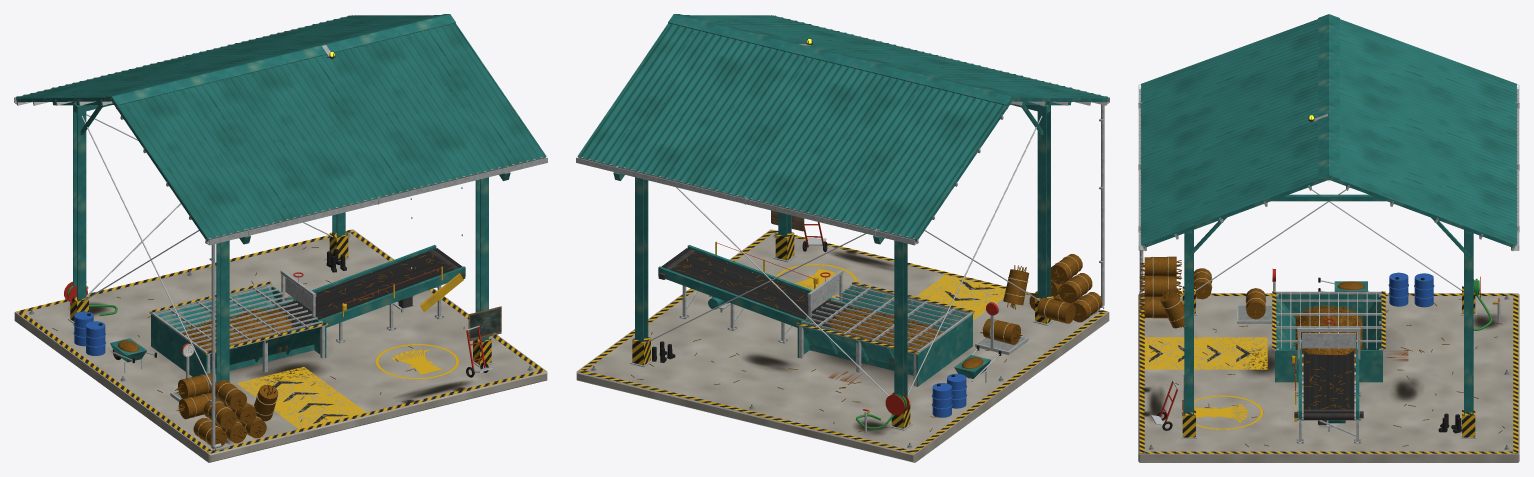
Rendered from CollectionPoint.glb.
The picture shows the model from 3 angles, left to right: view 1: azimuth 30°, elevation 25°; view 2: azimuth 150°, elevation 25°; view 3: azimuth 270°, elevation 25°; orthographic projection. The views are drawn at different scales.
Visible parts, largest first — view 1: CP_Roof_RoofTeal, CP_Pad_Concrete, CP_Frame_Teal, CP_Roof_Teal, CP_Hopper_Teal, CP_Hopper_Galv, CP_Props_WetStraw, CP_Belt_Rubber, CP_Pad_Walkway, CP_Pad_Hazard, CP_Roof_Galv, CP_Belt_Teal (+11 smaller); view 2: CP_Roof_RoofTeal, CP_Pad_Concrete, CP_Frame_Teal, CP_Hopper_Teal, CP_Roof_Teal, CP_Hopper_Galv, CP_Props_WetStraw, CP_Belt_Rubber, CP_Pad_Hazard, CP_Roof_Galv, CP_Pad_Wet, CP_Belt_Teal (+10 smaller); view 3: CP_Roof_RoofTeal, CP_Pad_Concrete, CP_Roof_Teal, CP_Frame_Teal, CP_Hopper_Teal, CP_Props_WetStraw, CP_Pad_Walkway, CP_Hopper_Galv, CP_Pad_Hazard, CP_Belt_Rubber, CP_Pad_Wet, CP_Straw_WetStraw (+9 smaller).
Part boxes in pixels (x1,y1,x2,y2): CP_Roof_RoofTeal: [15, 15, 546, 238]; CP_Pad_Concrete: [14, 229, 547, 462]; CP_Frame_Teal: [52, 101, 510, 402]; CP_Roof_Teal: [16, 14, 545, 241]; CP_Hopper_Teal: [151, 285, 326, 376]; CP_Hopper_Galv: [149, 270, 327, 373]; CP_Props_WetStraw: [117, 340, 278, 446]; CP_Belt_Rubber: [273, 248, 462, 327]; CP_Pad_Walkway: [237, 367, 366, 429]; CP_Pad_Hazard: [16, 229, 545, 453]; CP_Roof_Galv: [14, 15, 547, 448]; CP_Belt_Teal: [258, 245, 465, 332]; CP_Roof_RoofTeal: [577, 15, 1108, 238]; CP_Pad_Concrete: [576, 229, 1109, 462]; CP_Frame_Teal: [613, 101, 1071, 399]; CP_Hopper_Teal: [797, 285, 972, 386]; CP_Roof_Teal: [578, 14, 1107, 241]; CP_Hopper_Galv: [796, 270, 974, 386]; CP_Props_WetStraw: [962, 254, 1102, 368]; CP_Belt_Rubber: [661, 248, 850, 331]; CP_Pad_Hazard: [578, 229, 1107, 453]; CP_Roof_Galv: [576, 15, 1109, 307]; CP_Pad_Wet: [743, 250, 937, 435]; CP_Belt_Teal: [658, 245, 878, 332]; CP_Roof_RoofTeal: [1140, 19, 1517, 245]; CP_Pad_Concrete: [1138, 293, 1519, 462]; CP_Roof_Teal: [1142, 14, 1515, 247]; CP_Frame_Teal: [1184, 180, 1473, 414]; CP_Hopper_Teal: [1275, 294, 1382, 382]; CP_Props_WetStraw: [1139, 256, 1364, 328]; CP_Pad_Walkway: [1144, 337, 1267, 369]; CP_Hopper_Galv: [1274, 291, 1383, 359]; CP_Pad_Hazard: [1139, 293, 1518, 453]; CP_Belt_Rubber: [1303, 350, 1354, 413]; CP_Pad_Wet: [1147, 314, 1502, 422]; CP_Straw_WetStraw: [1293, 305, 1363, 368].
Bounding box in the file's own units: 12 × 10 × 12.
31 materials, 18 textured.
